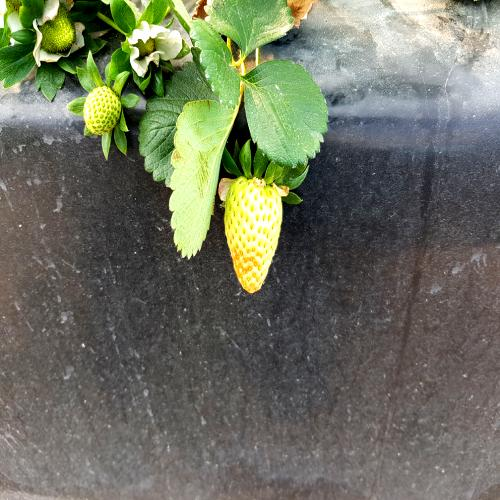partially-ripe: (222, 174, 284, 294)
